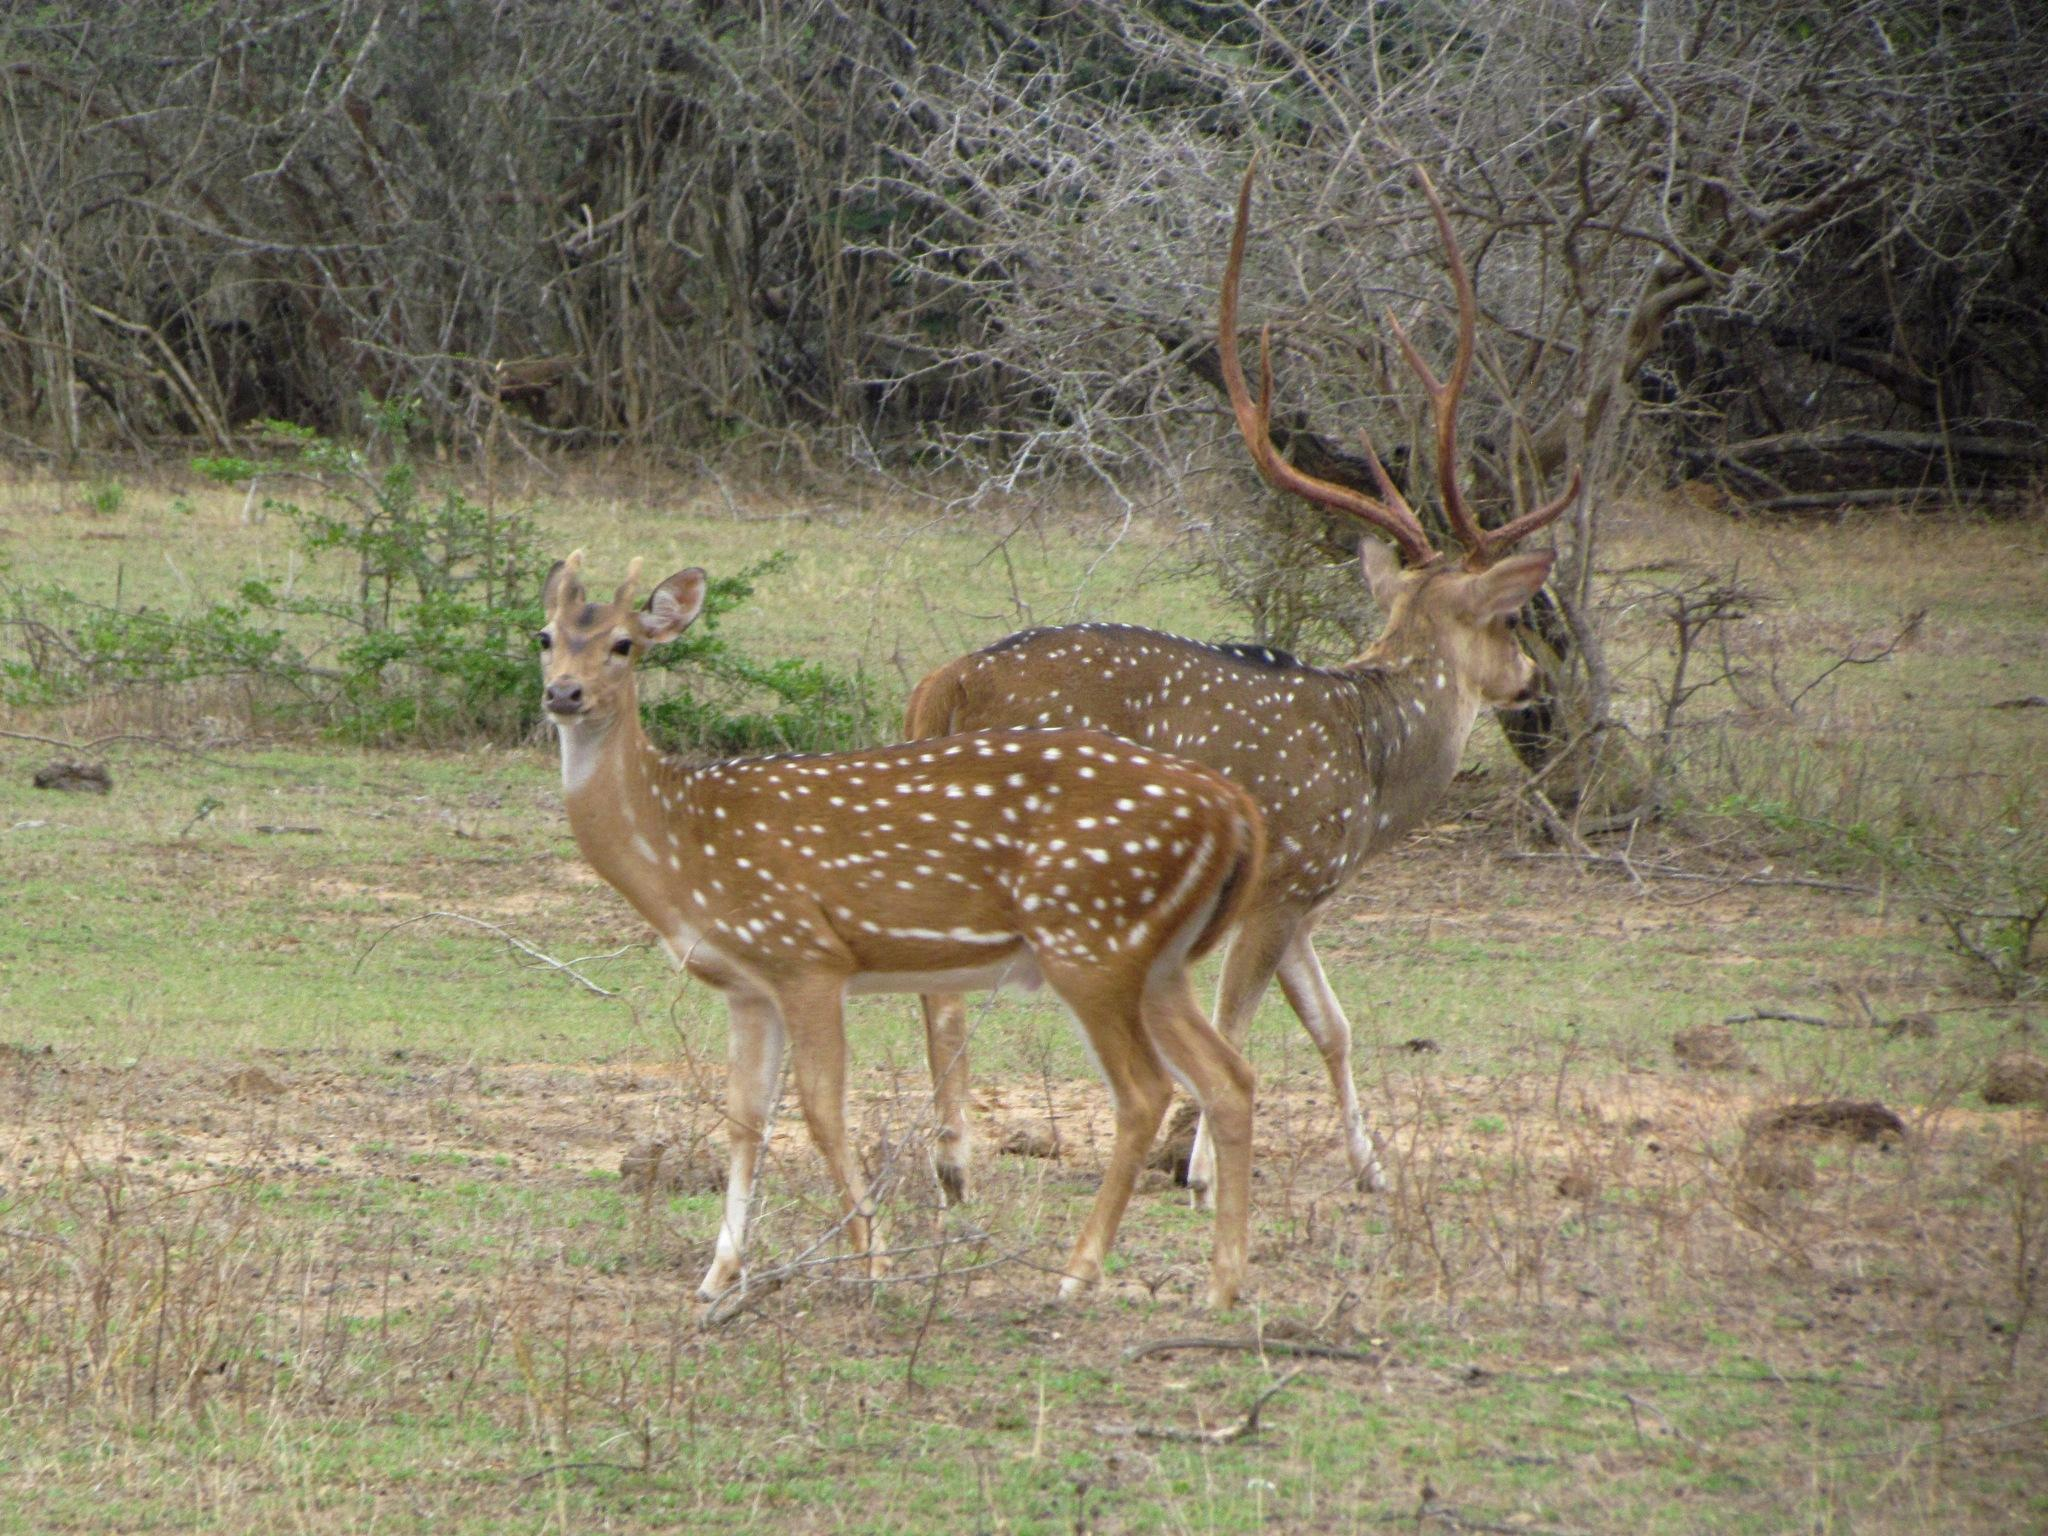Deer: (540, 552, 1300, 1305), (905, 537, 1551, 1187)
